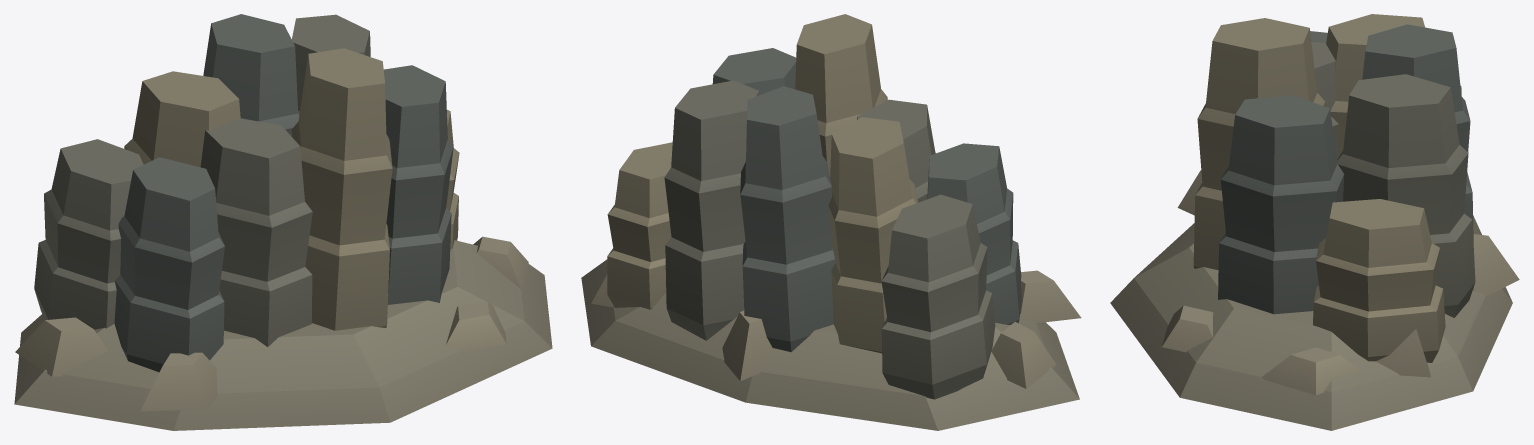
File: basalt.glb
The picture shows the model from 3 angles, left to right: view 1: azimuth 30°, elevation 25°; view 2: azimuth 150°, elevation 25°; view 3: azimuth 270°, elevation 25°; orthographic projection. The views are drawn at different scales.
Visible parts, largest first — view 1: Basalt ridge and talus v3; view 2: Basalt ridge and talus v3; view 3: Basalt ridge and talus v3.
Boxes of the visible parts, box(x1,y1,x2,y2) form: Basalt ridge and talus v3: box(14, 14, 552, 430); Basalt ridge and talus v3: box(581, 14, 1081, 430); Basalt ridge and talus v3: box(1110, 14, 1519, 430).
Size of the model in its own units: 3.82 by 2 by 2.6.
